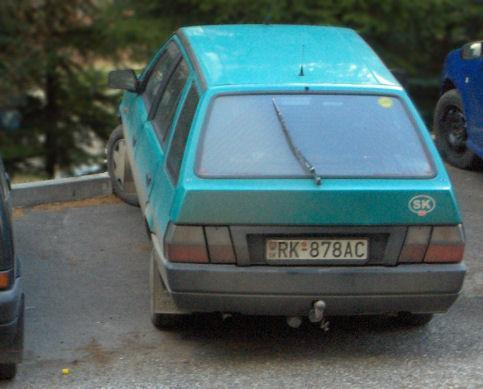placa de veiculo: (263, 235, 373, 266)
